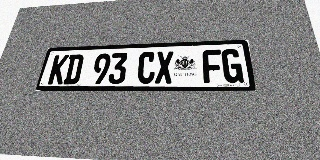3: (108, 53, 128, 84)
9: (91, 53, 112, 84)
C: (137, 52, 156, 84)
D: (63, 54, 84, 84)
F: (202, 49, 223, 83)
G: (221, 49, 244, 83)
K: (47, 55, 69, 84)
X: (155, 51, 173, 84)
